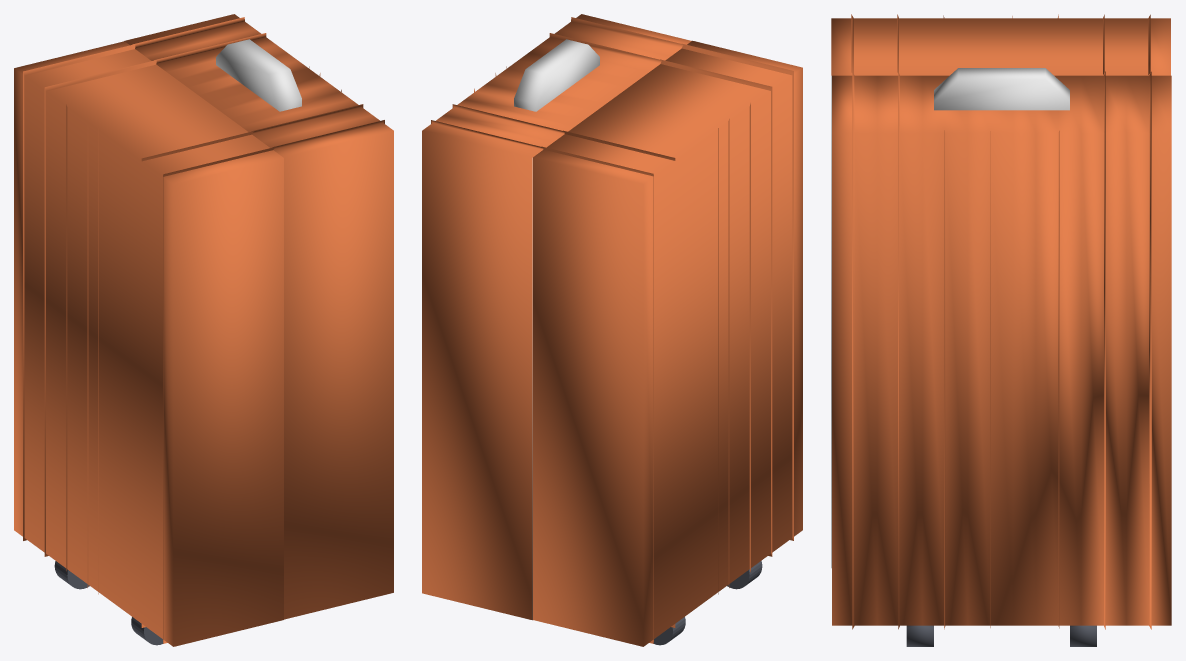
The model's file is val1Closed.glb.
3 views of the same model, side by side, from view 1: azimuth 30°, elevation 25°; view 2: azimuth 150°, elevation 25°; view 3: azimuth 270°, elevation 25° (orthographic). The views are drawn at different scales.
Visible parts, largest first — view 1: Cube.001, Cube.004; view 2: Cube.001, Cube.004; view 3: Cube.004, Cube.001.
Part boxes in pixels (left/top/right/bottom): Cube.001: left=14, top=41, right=283, bottom=646; Cube.004: left=124, top=14, right=393, bottom=619; Cube.001: left=533, top=40, right=802, bottom=646; Cube.004: left=422, top=14, right=691, bottom=620; Cube.004: left=832, top=68, right=1171, bottom=646; Cube.001: left=831, top=14, right=1170, bottom=568.
Bounding box in the file's own units: 0.2011 × 0.45 × 0.2506.
